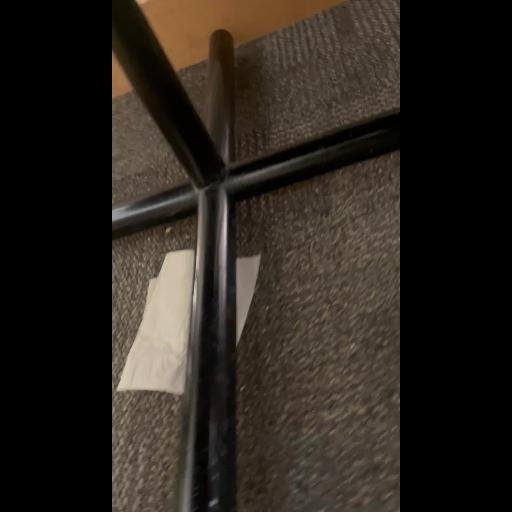napkin: (112, 234, 270, 420)
